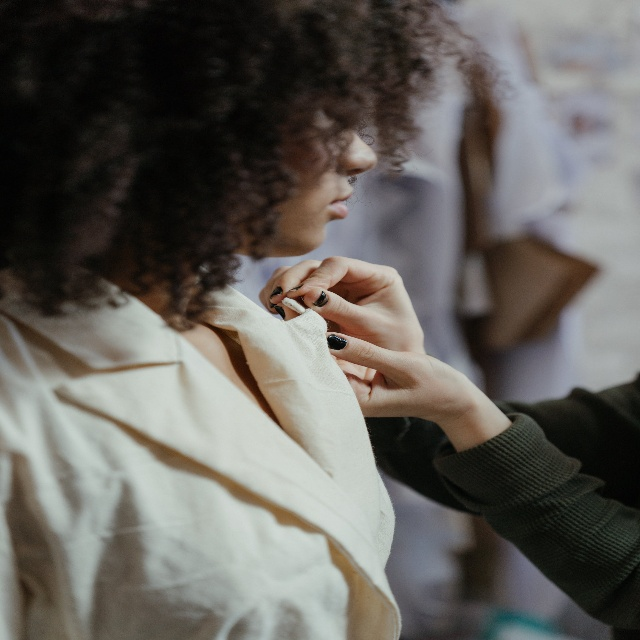Sin_guantes: (258, 257, 423, 355), (324, 329, 469, 424)
